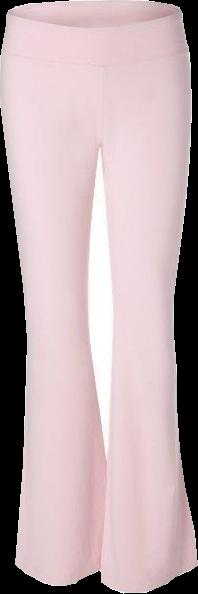Hemline: (99, 562, 197, 593), (13, 560, 101, 584)
Pantleg: (0, 0, 107, 584), (99, 0, 197, 591)
Waistline: (0, 45, 190, 69), (8, 6, 182, 31)
